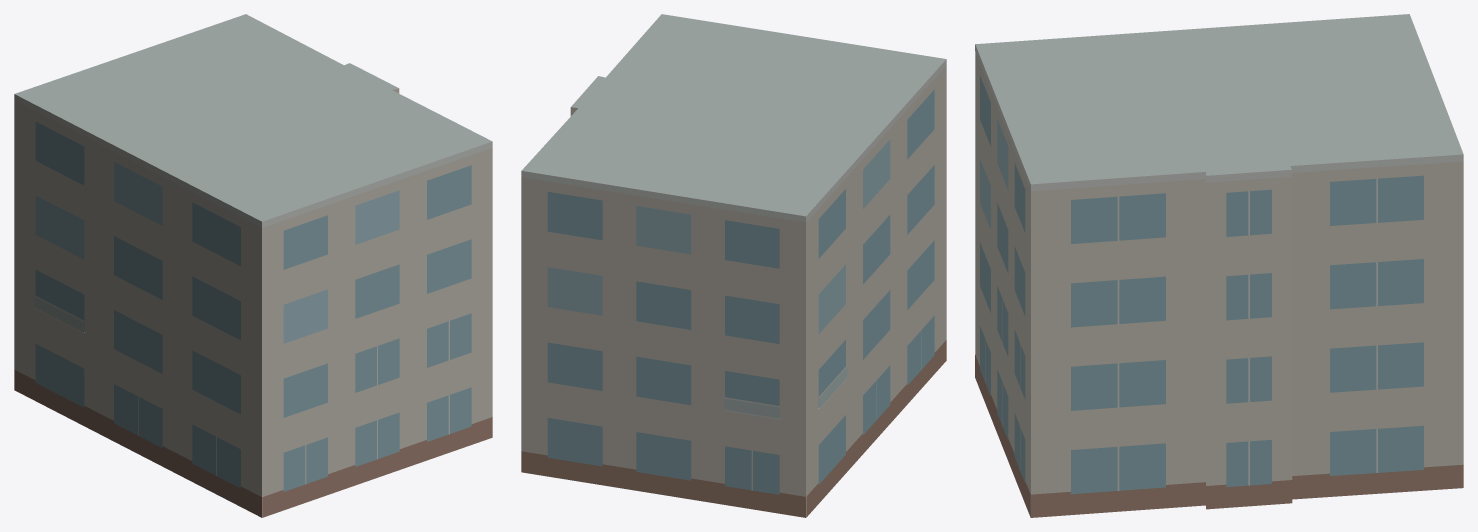
File: survey-upis-32911674.glb
3 renders of one model, left to right at view 1: azimuth 30°, elevation 25°; view 2: azimuth 150°, elevation 25°; view 3: azimuth 270°, elevation 25°, orthographic. The views are drawn at different scales.
Visible parts, largest first — view 1: survey-upis-32911674.tmp; view 2: survey-upis-32911674.tmp; view 3: survey-upis-32911674.tmp.
Boxes of the visible parts, x1=… form: survey-upis-32911674.tmp: x1=14, y1=14, x2=492, y2=517; survey-upis-32911674.tmp: x1=521, y1=14, x2=946, y2=517; survey-upis-32911674.tmp: x1=975, y1=14, x2=1463, y2=517.
Size of the model in its own units: 12.72 by 11.6 by 15.41.
